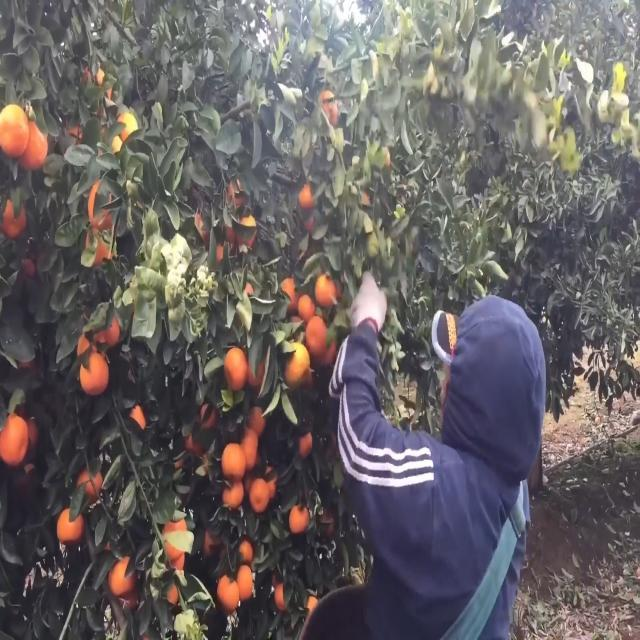Jeruk Sudah Matang: (15, 119, 52, 174), (0, 100, 32, 159), (73, 347, 114, 393), (0, 410, 32, 468), (218, 437, 252, 489), (100, 553, 139, 596), (221, 350, 246, 412), (212, 570, 245, 616), (54, 505, 86, 546), (232, 559, 258, 603), (304, 316, 329, 360), (312, 270, 337, 312), (288, 497, 312, 538), (248, 472, 270, 510)
